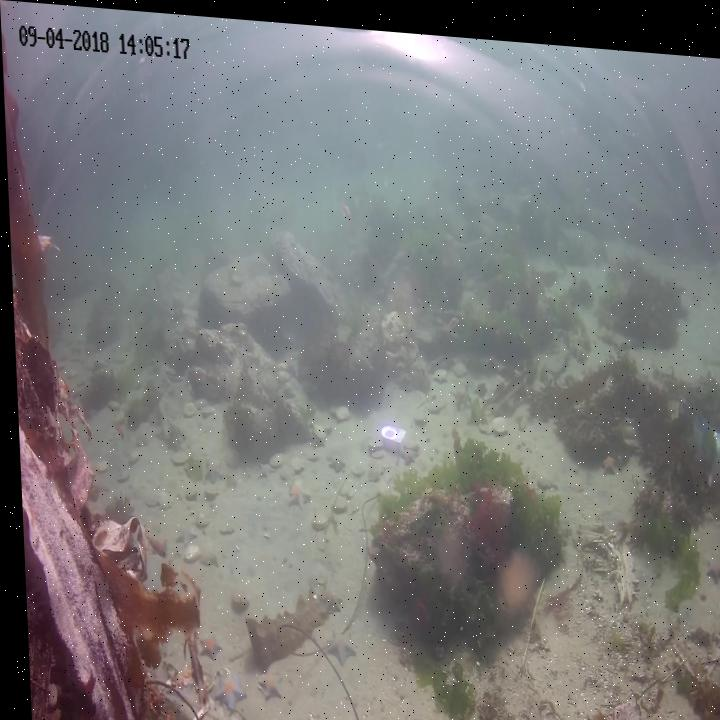scallop: (220, 443, 240, 471), (223, 586, 246, 609), (310, 409, 327, 438), (151, 489, 169, 515), (167, 444, 186, 468), (130, 415, 146, 441), (306, 504, 323, 528), (226, 264, 245, 285), (489, 408, 505, 432), (177, 543, 196, 563), (329, 396, 347, 417), (429, 355, 445, 378), (284, 449, 301, 469), (102, 393, 120, 411), (448, 353, 466, 370), (179, 484, 196, 502), (328, 491, 345, 508), (364, 431, 381, 448), (409, 404, 425, 421), (199, 484, 215, 501), (194, 397, 209, 415), (112, 461, 126, 480), (176, 399, 194, 413), (122, 445, 136, 463)
starfish: (205, 664, 240, 714), (317, 626, 352, 662), (188, 625, 217, 660), (248, 666, 276, 699), (282, 473, 308, 506), (169, 516, 192, 550), (314, 581, 339, 611), (700, 542, 720, 576), (199, 452, 221, 482), (304, 416, 325, 446), (595, 441, 615, 467), (251, 454, 271, 479), (322, 446, 342, 470), (395, 439, 414, 463)
